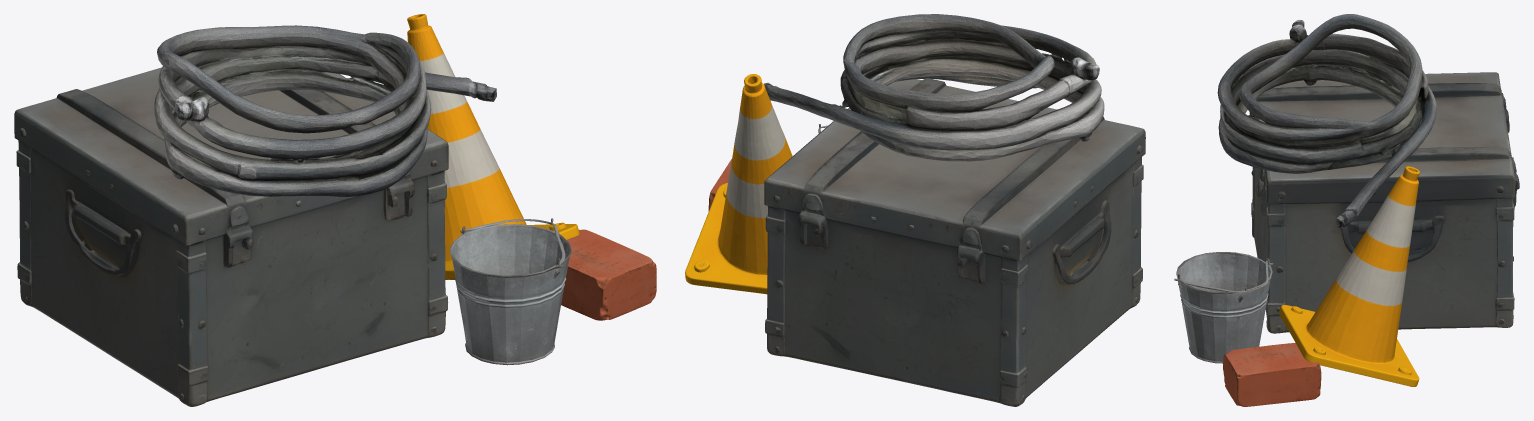
The model's file is phi-scene.glb.
3 renders of one model, left to right at view 1: azimuth 30°, elevation 25°; view 2: azimuth 150°, elevation 25°; view 3: azimuth 270°, elevation 25°, orthographic. The views are drawn at different scales.
Parts seen in each view (by area): view 1: object_04, object_03, object_01, object_02, object_00; view 2: object_04, object_03, object_02; view 3: object_04, object_03, object_02, object_01, object_00.
Part boxes in pixels (<box>): object_04: <box>14,67,448,406</box>; object_03: <box>154,25,496,196</box>; object_01: <box>449,218,571,365</box>; object_02: <box>407,14,579,279</box>; object_00: <box>561,229,656,320</box>; object_04: <box>764,78,1145,406</box>; object_03: <box>764,14,1104,161</box>; object_02: <box>685,74,792,294</box>; object_04: <box>1248,72,1519,333</box>; object_03: <box>1217,14,1436,228</box>; object_02: <box>1278,166,1419,386</box>; object_01: <box>1174,252,1273,363</box>; object_00: <box>1223,343,1321,406</box>.
Bounding box in the file's own units: 0.5279 × 0.3122 × 0.4117.
5 materials, 5 textured.
